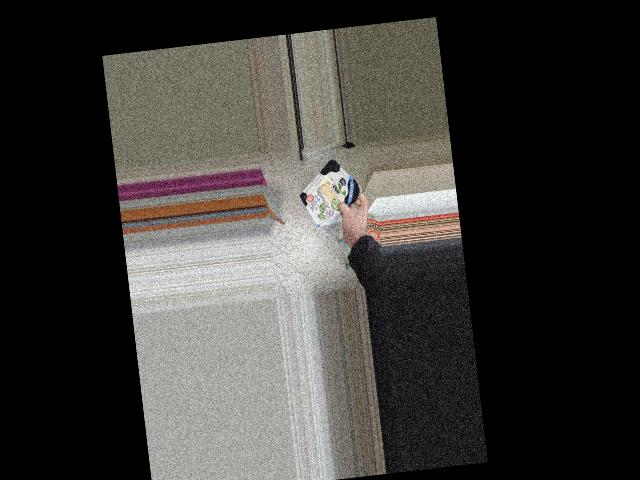cheese: (290, 157, 366, 226)
